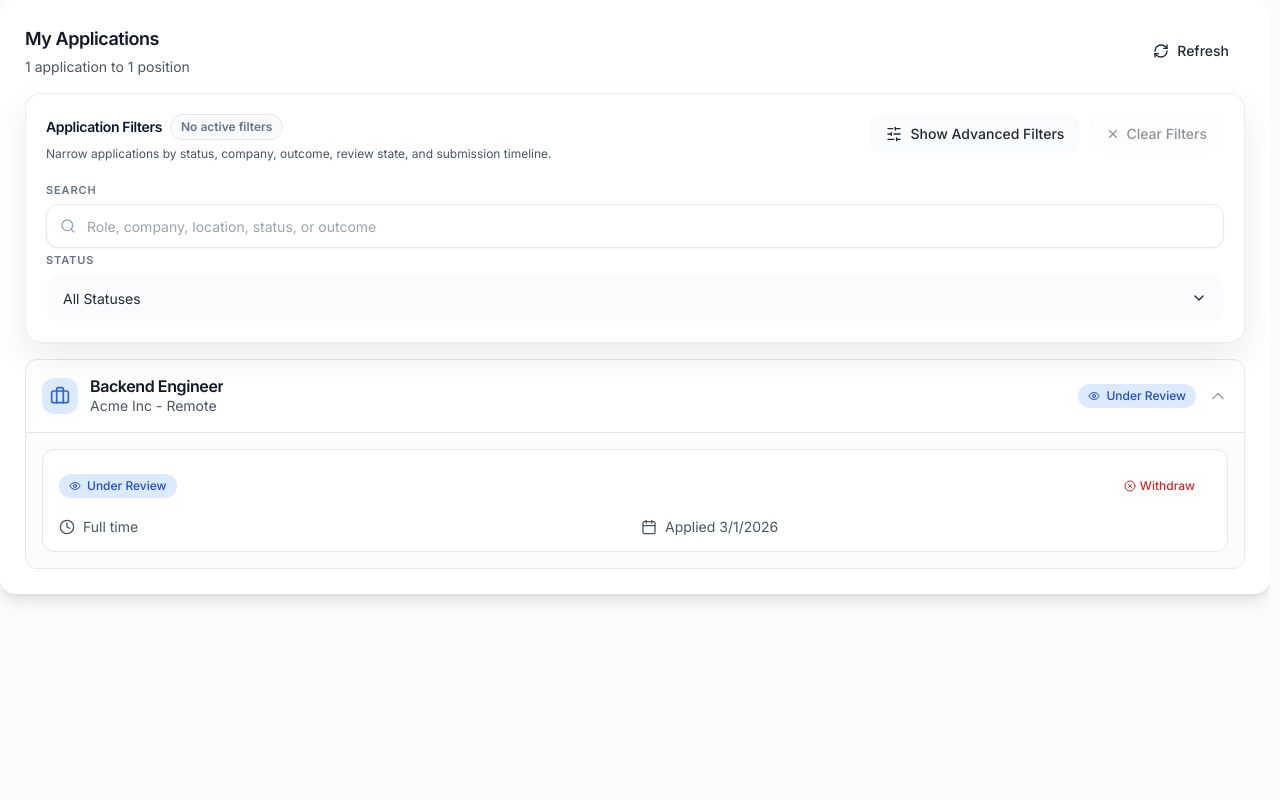
Test: MyApplicationsList withdraw flow › withdraws a candidate application and shows success feedback
Click the button "Withdraw" at (1159, 486), box [1108,466,1211,506]
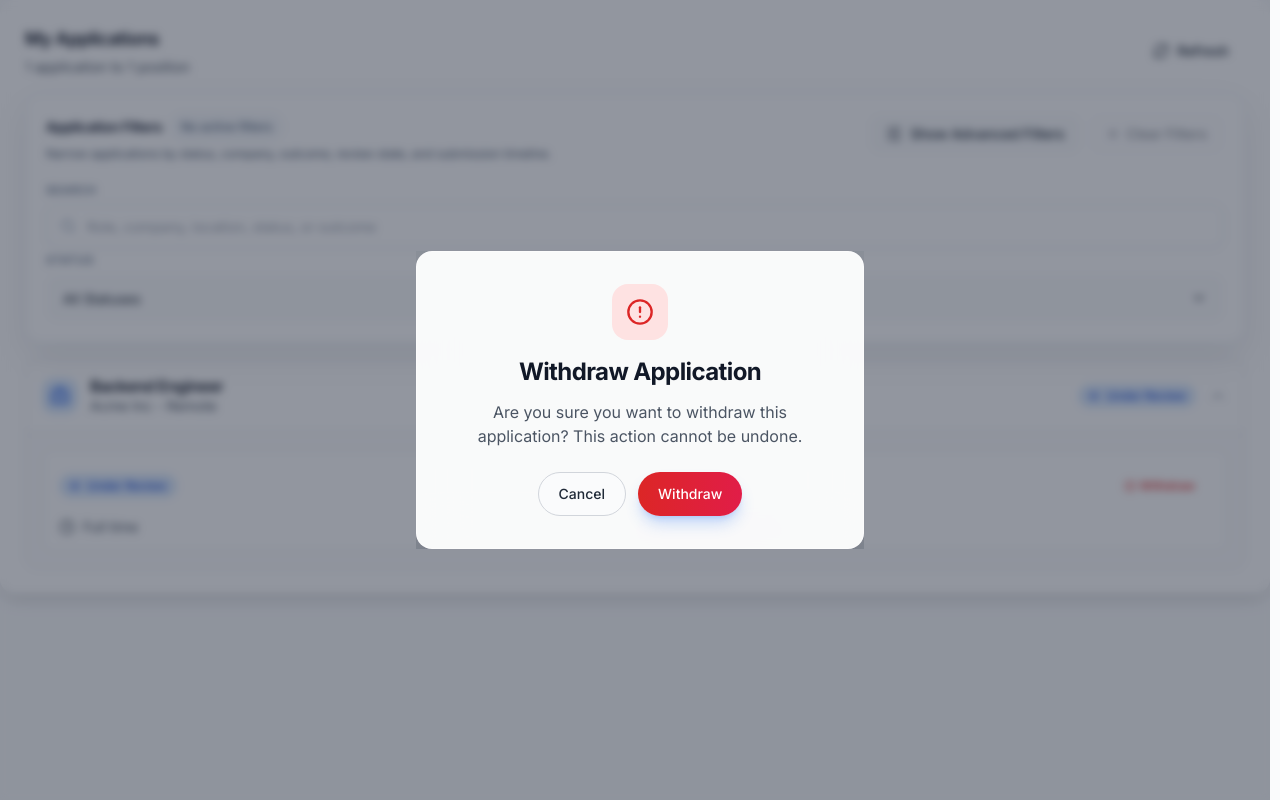
Click the button "Withdraw" at (690, 494), box [638,472,742,516]
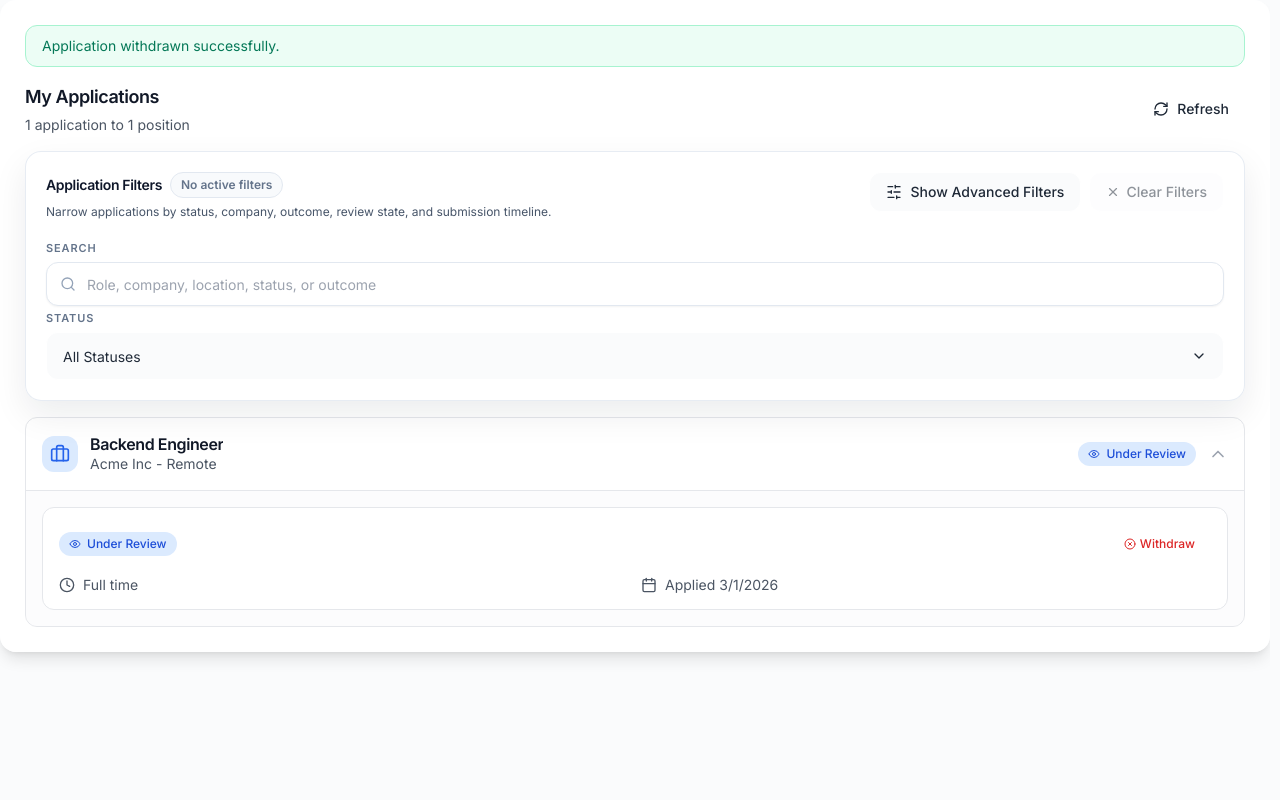
Expected: the text "Application withdrawn successfully." is shown, [25,25,1245,67]
